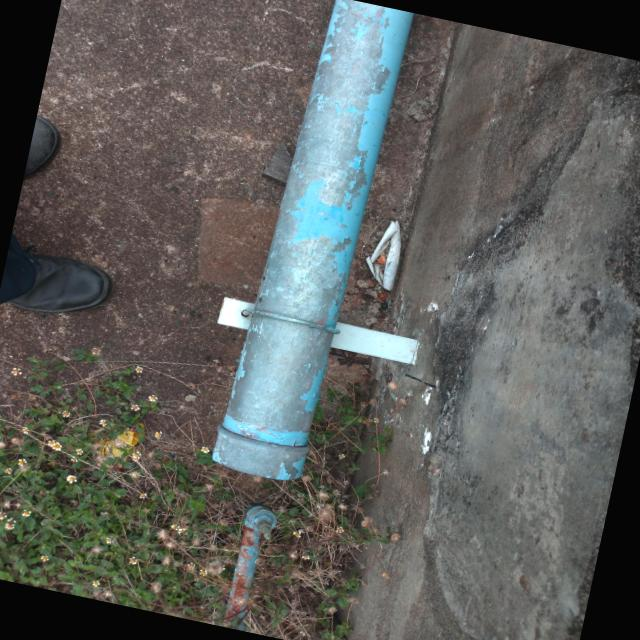gas: (206, 0, 409, 482)
